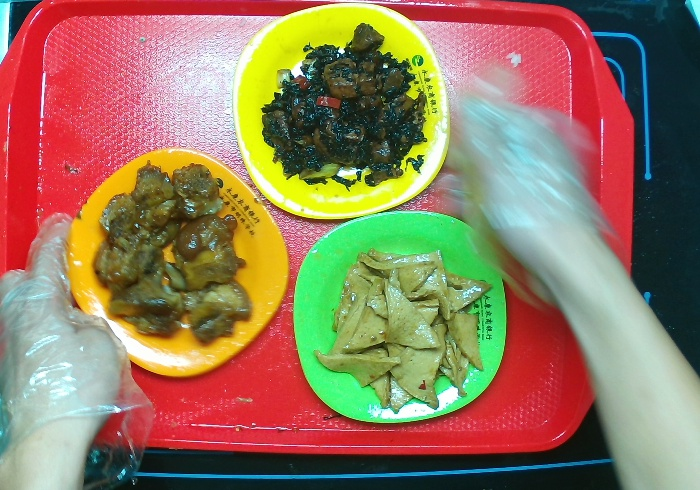YKMZ-Huang_Se_Fang_Die: (230, 1, 452, 220)
YKMZ-Ju_Se_Fang_Die: (64, 146, 291, 379)
YKMZ-Lv_Se_Fang_Die: (291, 209, 510, 425)
